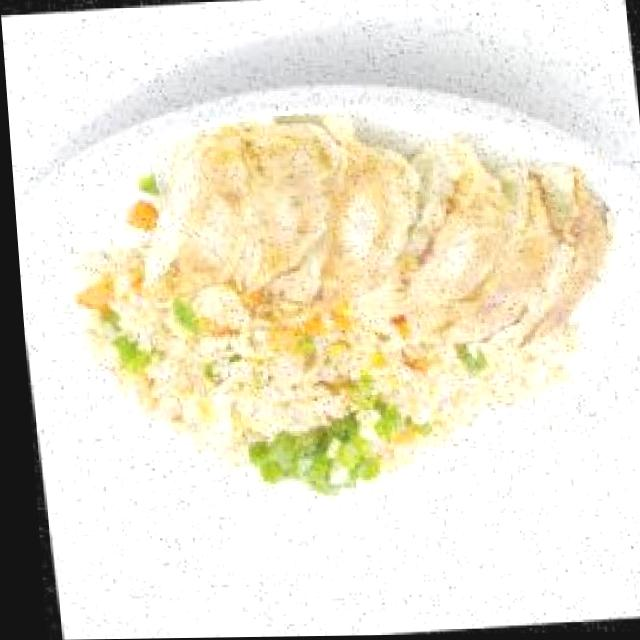fried_dumplings: (119, 101, 620, 382)
